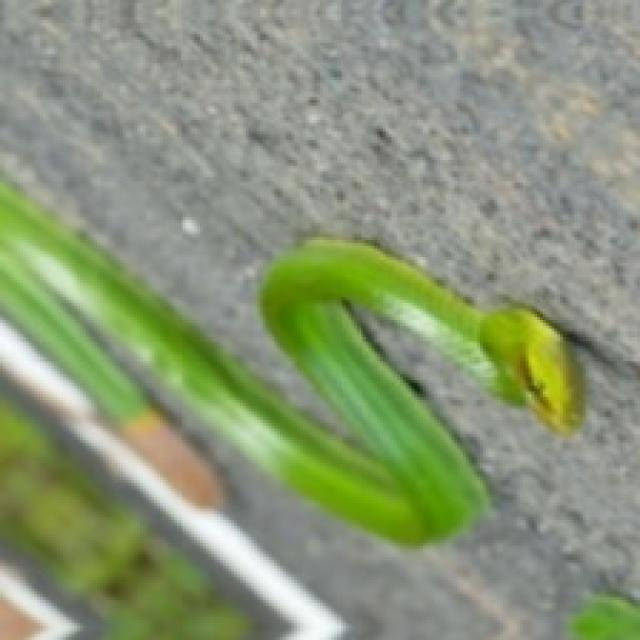red-tailed green ratsnake: (0, 183, 580, 543), (0, 186, 580, 540)
